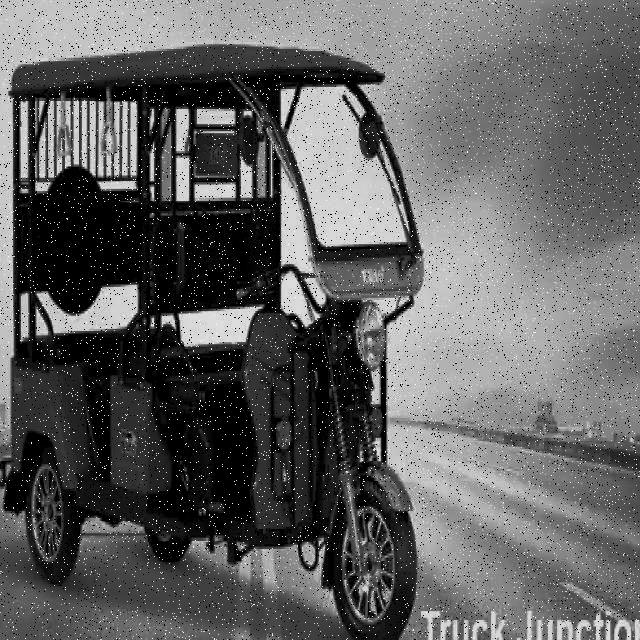Toto: (0, 31, 425, 640)
